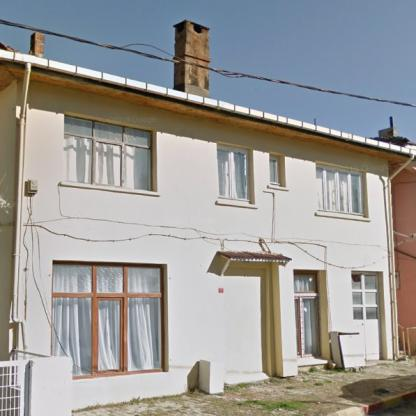door: (223, 270, 266, 378), (353, 270, 384, 361)
window: (52, 260, 163, 376), (64, 116, 153, 191), (315, 165, 366, 215), (296, 272, 320, 358), (216, 144, 251, 202), (270, 156, 284, 185)
